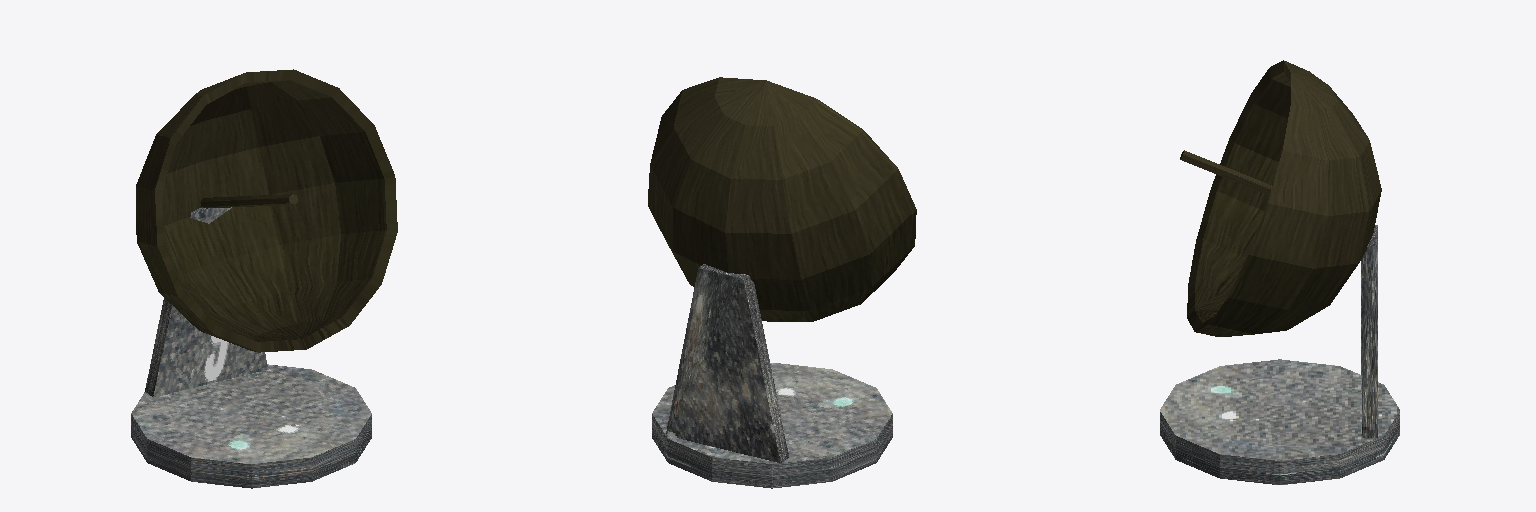
3 views of the same model, side by side, from view 1: azimuth 30°, elevation 25°; view 2: azimuth 150°, elevation 25°; view 3: azimuth 270°, elevation 25° (orthographic).
Parts seen in each view (by area): view 1: polySurface1; view 2: polySurface1; view 3: polySurface1.
Part boxes in pixels (x1,y1,x2,y2): polySurface1: (131, 69, 397, 488); polySurface1: (648, 77, 916, 488); polySurface1: (1160, 60, 1399, 484).
Size of the model in its own units: 1.48 by 2.06 by 1.25.
3 materials, 3 textured.